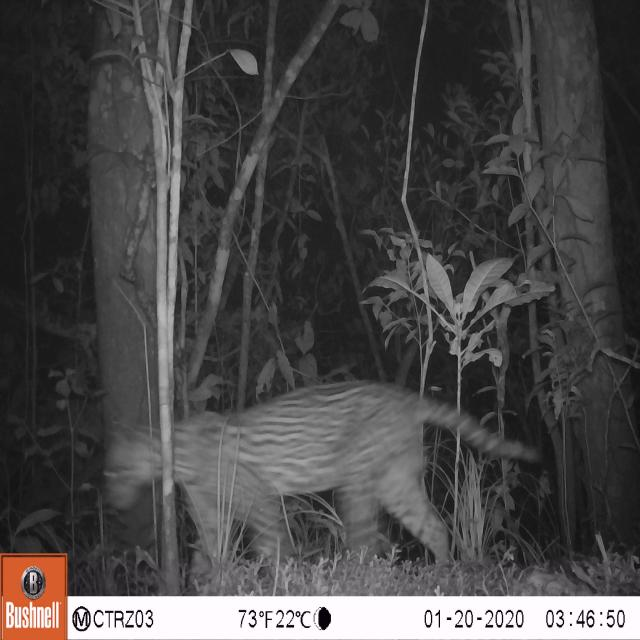Ocelote: (93, 376, 538, 582)
